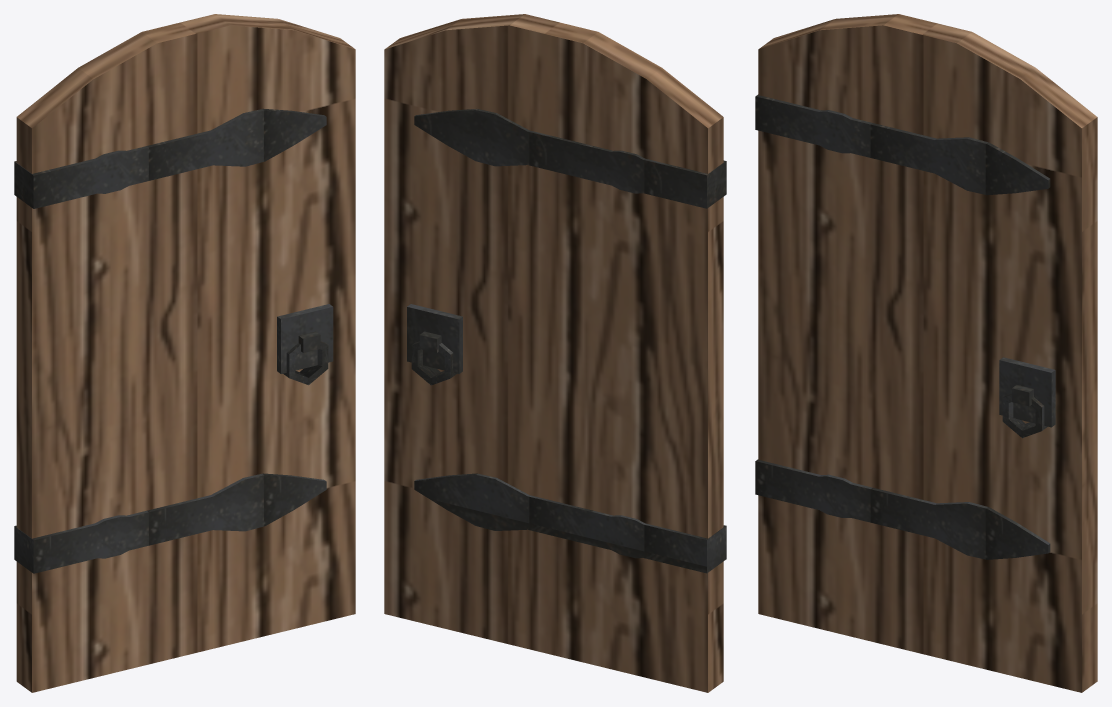
The model's file is LP_DungeonDoor.glb.
The picture shows the model from 3 angles, left to right: view 1: azimuth 30°, elevation 25°; view 2: azimuth 150°, elevation 25°; view 3: azimuth 330°, elevation 25°; orthographic projection.
Visible parts, largest first — view 1: DungeonDoor_001; view 2: DungeonDoor_001; view 3: DungeonDoor_001.
Boxes of the visible parts, x1=… form: DungeonDoor_001: x1=14, y1=14, x2=355, y2=692; DungeonDoor_001: x1=384, y1=14, x2=726, y2=692; DungeonDoor_001: x1=755, y1=14, x2=1097, y2=692.
Bounding box in the file's own units: 1.2 × 2.19 × 0.2133.
Materials: 2 (2 with a texture image).
